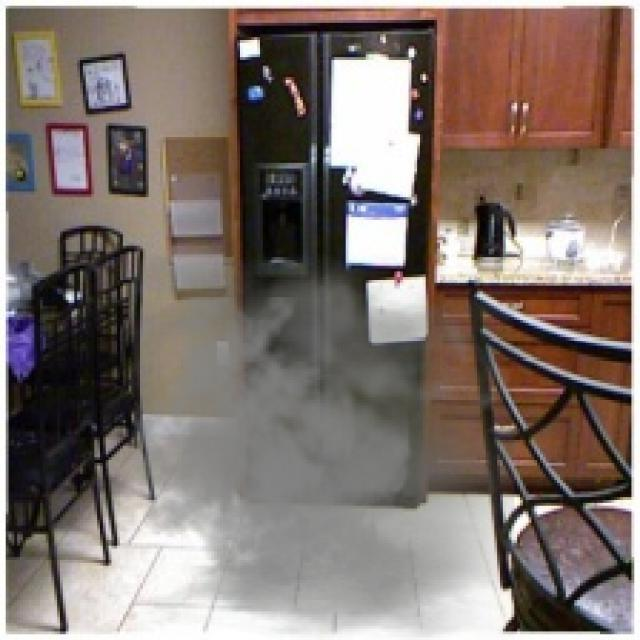Smoke: (120, 254, 517, 637)
